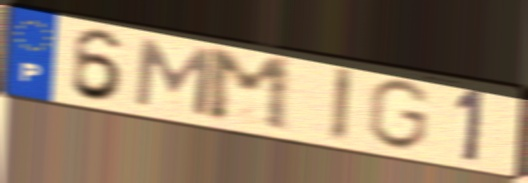1: (451, 86, 487, 166)
6: (68, 27, 127, 105)
G: (363, 77, 435, 153)
I: (327, 64, 357, 146)
M: (204, 46, 293, 136), (130, 36, 215, 121)
